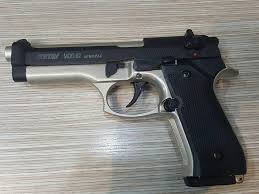Arma Real: (2, 29, 250, 186)
